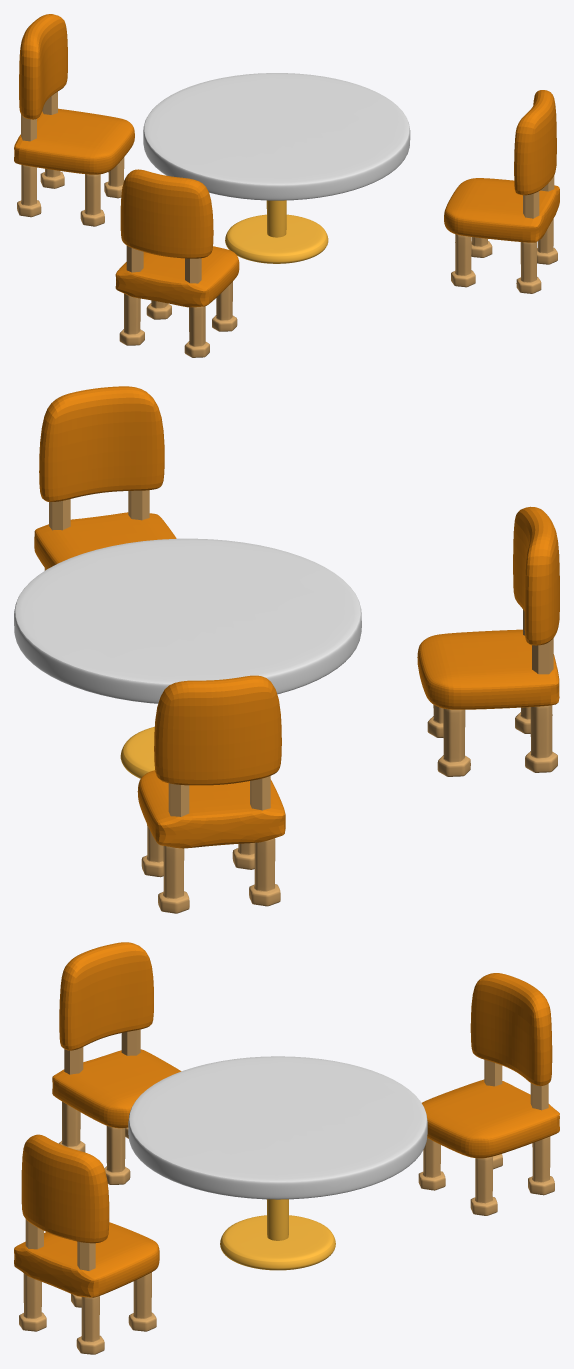
File: TableSet.fbx
The picture shows the model from 3 angles, top to bottom: view 1: azimuth 30°, elevation 25°; view 2: azimuth 150°, elevation 25°; view 3: azimuth 270°, elevation 25°; orthographic projection. The views are drawn at different scales.
Parts seen in each view (by area): view 1: table.003, chair.002|Cube.042|Dupli|1, chair|Cube.041|Dupli|, chair.001|Cube.041|Dupli|, chair.002|Cube.041|Dupli|, chair|Cube.042|Dupli|1, chair.001|Cube.042|Dupli|1, chair.002|Cylinder.005|Dupli|2, chair.001|Cylinder.005|Dupli|2, chair|Cylinder.005|Dupli|2, chair.002|Cylinder.006|Dupli|3, chair|Cylinder.006|Dupli|3 (+1 smaller); view 2: table.003, chair|Cube.042|Dupli|1, chair.001|Cube.042|Dupli|1, chair.002|Cube.041|Dupli|, chair|Cube.041|Dupli|, chair.002|Cube.042|Dupli|1, chair|Cylinder.005|Dupli|2, chair.001|Cube.041|Dupli|, chair.002|Cylinder.005|Dupli|2, chair|Cylinder.006|Dupli|3, chair.001|Cylinder.006|Dupli|3, chair.002|Cylinder.006|Dupli|3; view 3: table.003, chair.002|Cube.042|Dupli|1, chair.001|Cube.042|Dupli|1, chair|Cube.041|Dupli|, chair|Cube.042|Dupli|1, chair.001|Cube.041|Dupli|, chair.002|Cube.041|Dupli|, chair.001|Cylinder.005|Dupli|2, chair|Cylinder.005|Dupli|2, chair.002|Cylinder.005|Dupli|2, chair.002|Cylinder.006|Dupli|3, chair.001|Cylinder.006|Dupli|3 (+1 smaller).
Part boxes in pixels (x1,y1,x2,y2): table.003: (143,73,410,263); chair.002|Cube.042|Dupli|1: (120,169,213,258); chair|Cube.041|Dupli|: (14,108,134,174); chair.001|Cube.041|Dupli|: (444,178,559,242); chair.002|Cube.041|Dupli|: (115,246,239,307); chair|Cube.042|Dupli|1: (19,14,67,119); chair.001|Cube.042|Dupli|1: (514,90,556,195); chair.002|Cylinder.005|Dupli|2: (119,282,237,357); chair.001|Cylinder.005|Dupli|2: (451,219,557,293); chair|Cylinder.005|Dupli|2: (17,157,124,226); chair.002|Cylinder.006|Dupli|3: (126,245,201,283); chair|Cylinder.006|Dupli|3: (21,91,57,141); table.003: (14,538,361,778); chair|Cube.042|Dupli|1: (154,675,281,785); chair.001|Cube.042|Dupli|1: (39,386,164,501); chair.002|Cube.041|Dupli|: (417,629,559,709); chair|Cube.041|Dupli|: (137,770,285,848); chair.002|Cube.042|Dupli|1: (513,506,559,645); chair|Cylinder.005|Dupli|2: (141,824,280,913); chair.001|Cube.041|Dupli|: (34,512,176,569); chair.002|Cylinder.005|Dupli|2: (427,704,557,776); chair|Cylinder.006|Dupli|3: (168,776,270,816); chair.001|Cylinder.006|Dupli|3: (49,490,149,530); chair.002|Cylinder.006|Dupli|3: (523,610,553,674); table.003: (128,1056,427,1270); chair.002|Cube.042|Dupli|1: (59,942,153,1050); chair.001|Cube.042|Dupli|1: (21,1134,109,1243); chair|Cube.041|Dupli|: (422,1079,559,1158); chair|Cube.042|Dupli|1: (470,973,552,1086); chair.001|Cube.041|Dupli|: (14,1222,159,1297); chair.002|Cube.041|Dupli|: (52,1049,181,1128); chair.001|Cylinder.005|Dupli|2: (19,1272,156,1354); chair|Cylinder.005|Dupli|2: (418,1136,554,1215); chair.002|Cylinder.005|Dupli|2: (59,1101,130,1184); chair.002|Cylinder.006|Dupli|3: (64,1029,140,1074); chair.001|Cylinder.006|Dupli|3: (25,1219,95,1270).
Bounding box in the file's own units: 1047 × 410 × 1046.
